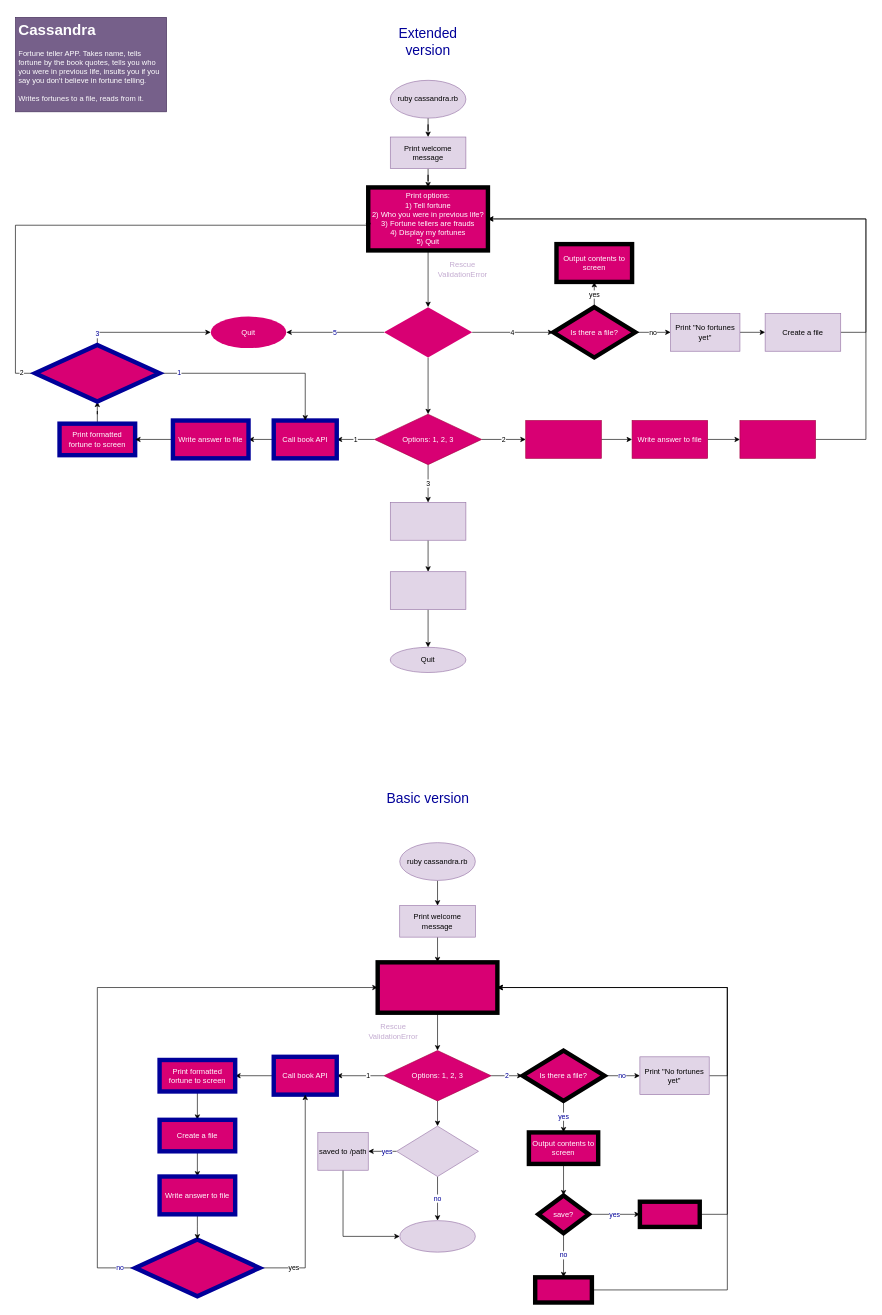
Some shapes in this 882 by 1315 pixel diagram are drawn without their labels. The centre of each missing label's shape, as x and y in pixels:
"1) Another fortune 2) Back to main menu 3) Quit" goes at (x=97, y=373).
"Anothe fortune?" goes at (x=197, y=1267).
"Call insult API" goes at (x=428, y=521).
"Call previous life API" goes at (x=563, y=439).
"delete file" goes at (x=563, y=1289).
"Finish" goes at (x=437, y=1236).
"Option 4, 5?" goes at (x=428, y=332).
"Output formatted answer to screen" goes at (x=777, y=439).
"Output formatted answer to scren" goes at (x=428, y=590).
"Print options: 1) Tell fortune 2) Display my fortunes 3) Quit" goes at (x=437, y=987).
"Save fortunes?" goes at (x=437, y=1151).
"saved at /path" goes at (x=669, y=1214).
